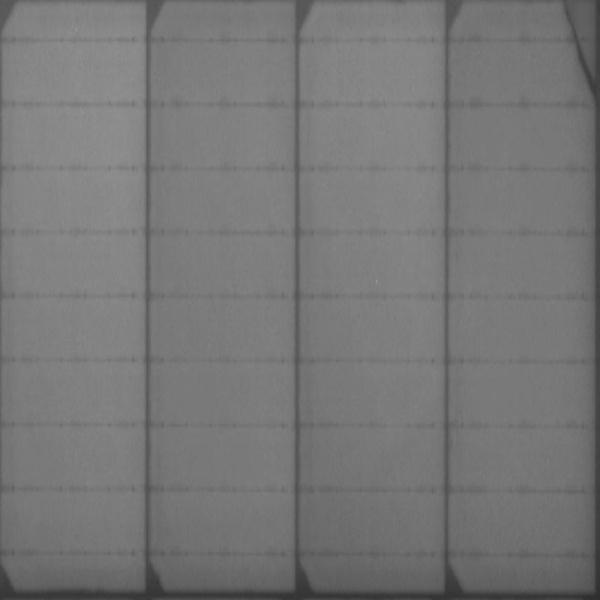broken: (563, 1, 600, 106)
